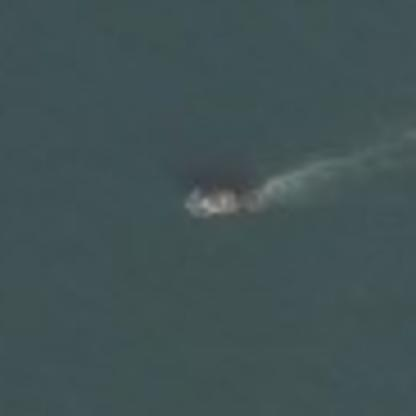ship: (178, 180, 259, 223)
